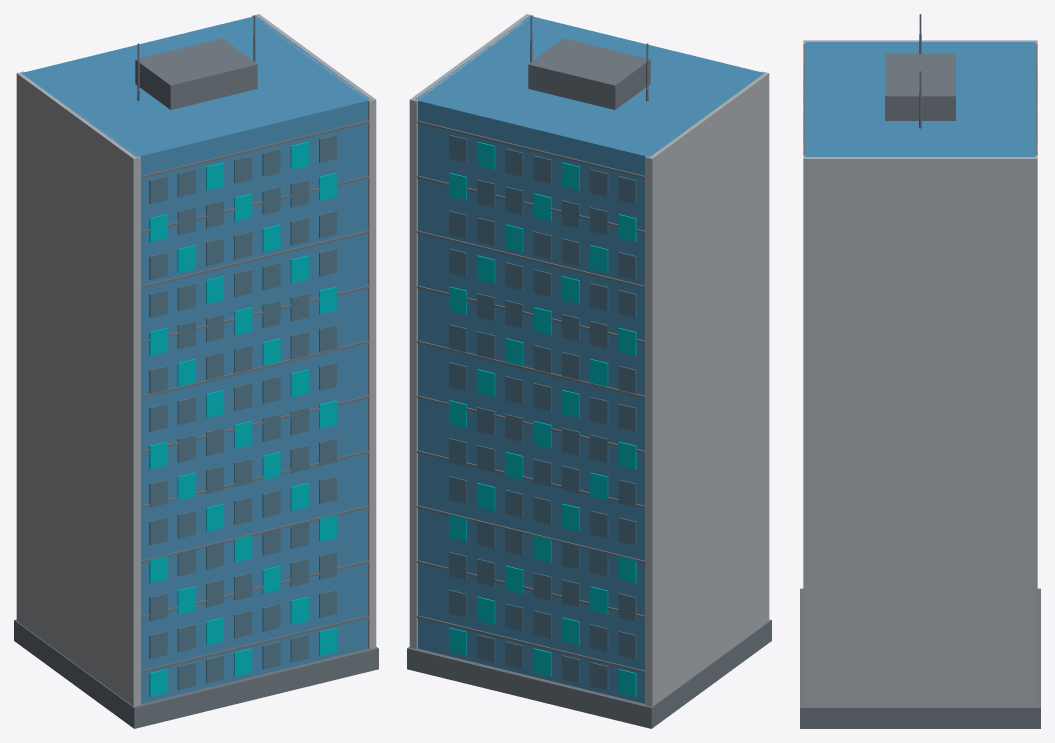
The model's file is city_office_tower.glb.
3 views of the same model, side by side, from view 1: azimuth 30°, elevation 25°; view 2: azimuth 150°, elevation 25°; view 3: azimuth 270°, elevation 25° (orthographic).
Visible parts, largest first — view 1: tower_core, corner_fin_-3.25, tower_base, roof_plant, corner_fin_3.25, floor_band_11.549999999999999, floor_band_1.4, floor_band_14.449999999999998, floor_band_8.649999999999999, floor_band_4.299999999999999; view 2: tower_core, corner_fin_-3.25, tower_base, roof_plant, corner_fin_3.25, floor_band_11.549999999999999, floor_band_1.4, floor_band_14.449999999999998, floor_band_8.649999999999999, floor_band_4.299999999999999; view 3: corner_fin_3.25, tower_core, tower_base, roof_plant, corner_fin_-3.25, floor_band_14.449999999999998.
Boxes of the visible parts, bbox=[...] form: tower_core: bbox=[21, 15, 371, 703]; corner_fin_-3.25: bbox=[16, 71, 140, 706]; tower_base: bbox=[14, 619, 378, 728]; roof_plant: bbox=[135, 38, 257, 109]; corner_fin_3.25: bbox=[252, 14, 376, 649]; floor_band_11.549999999999999: bbox=[141, 230, 368, 288]; floor_band_1.4: bbox=[141, 615, 368, 673]; floor_band_14.449999999999998: bbox=[141, 120, 368, 178]; floor_band_8.649999999999999: bbox=[141, 340, 368, 398]; floor_band_4.299999999999999: bbox=[141, 505, 368, 563]; tower_core: bbox=[414, 15, 764, 703]; corner_fin_-3.25: bbox=[645, 71, 769, 706]; tower_base: bbox=[407, 619, 771, 728]; roof_plant: bbox=[528, 38, 650, 109]; corner_fin_3.25: bbox=[409, 14, 533, 649]; floor_band_11.549999999999999: bbox=[417, 230, 644, 288]; floor_band_1.4: bbox=[417, 615, 644, 673]; floor_band_14.449999999999998: bbox=[417, 120, 644, 178]; floor_band_8.649999999999999: bbox=[417, 340, 644, 398]; floor_band_4.299999999999999: bbox=[417, 505, 644, 563]; corner_fin_3.25: bbox=[803, 155, 1037, 707]; tower_core: bbox=[805, 42, 1035, 156]; tower_base: bbox=[800, 588, 1040, 728]; roof_plant: bbox=[885, 54, 955, 120]; corner_fin_-3.25: bbox=[803, 40, 1037, 74]; floor_band_14.449999999999998: bbox=[803, 63, 1037, 155].
Size of the model in its own units: 6.75 by 16.5 by 5.75.
